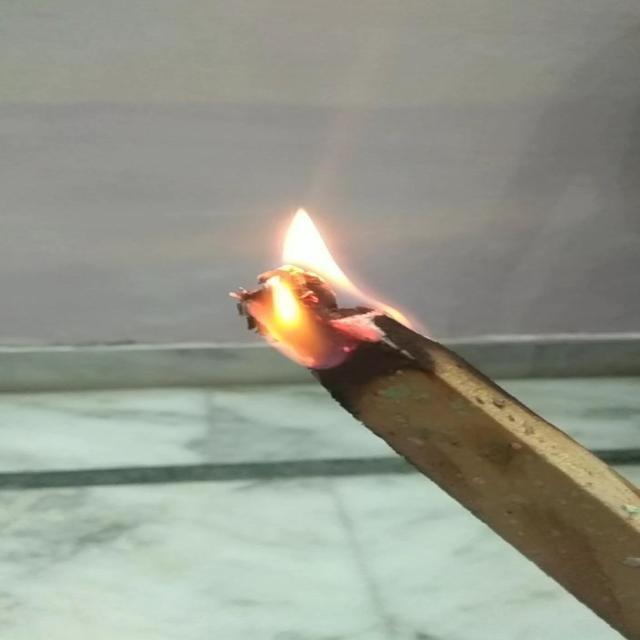smoke: (205, 200, 424, 372)
